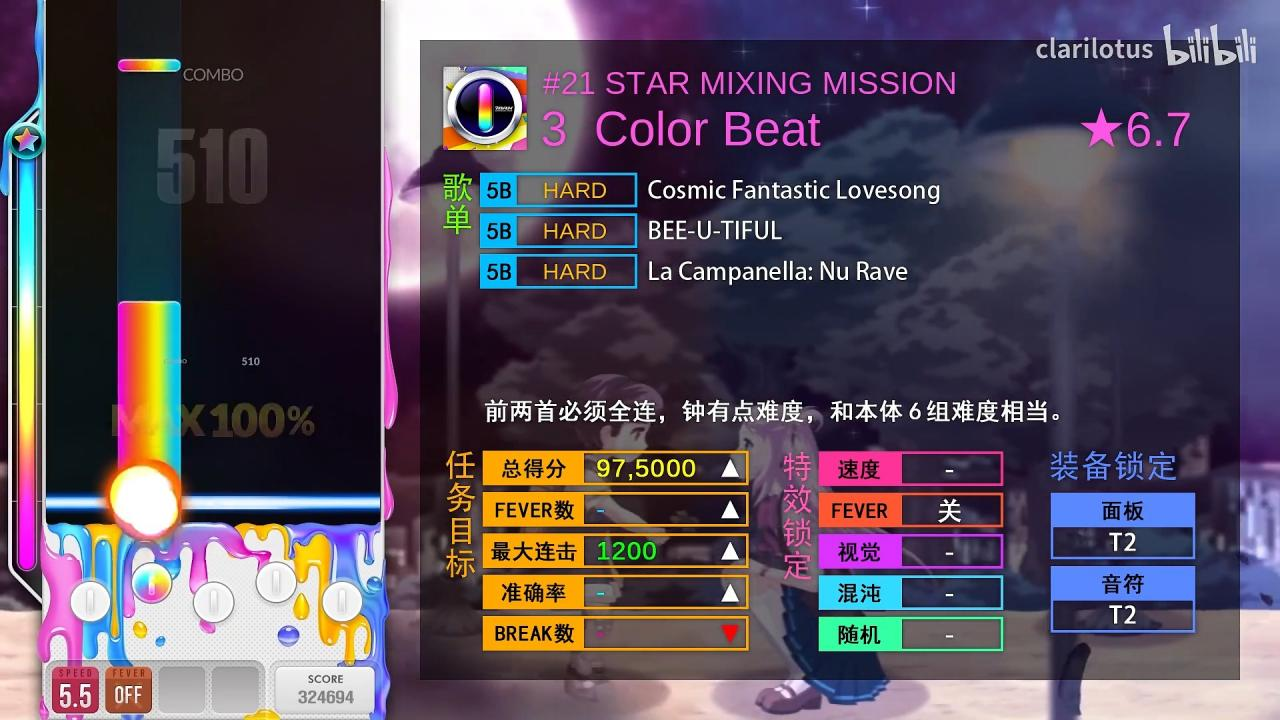hold-end: (117, 301, 181, 314)
note: (118, 59, 181, 73)
